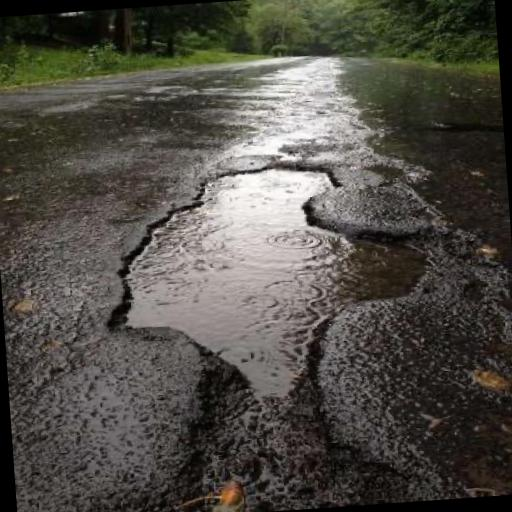pothole: (89, 148, 441, 405)
